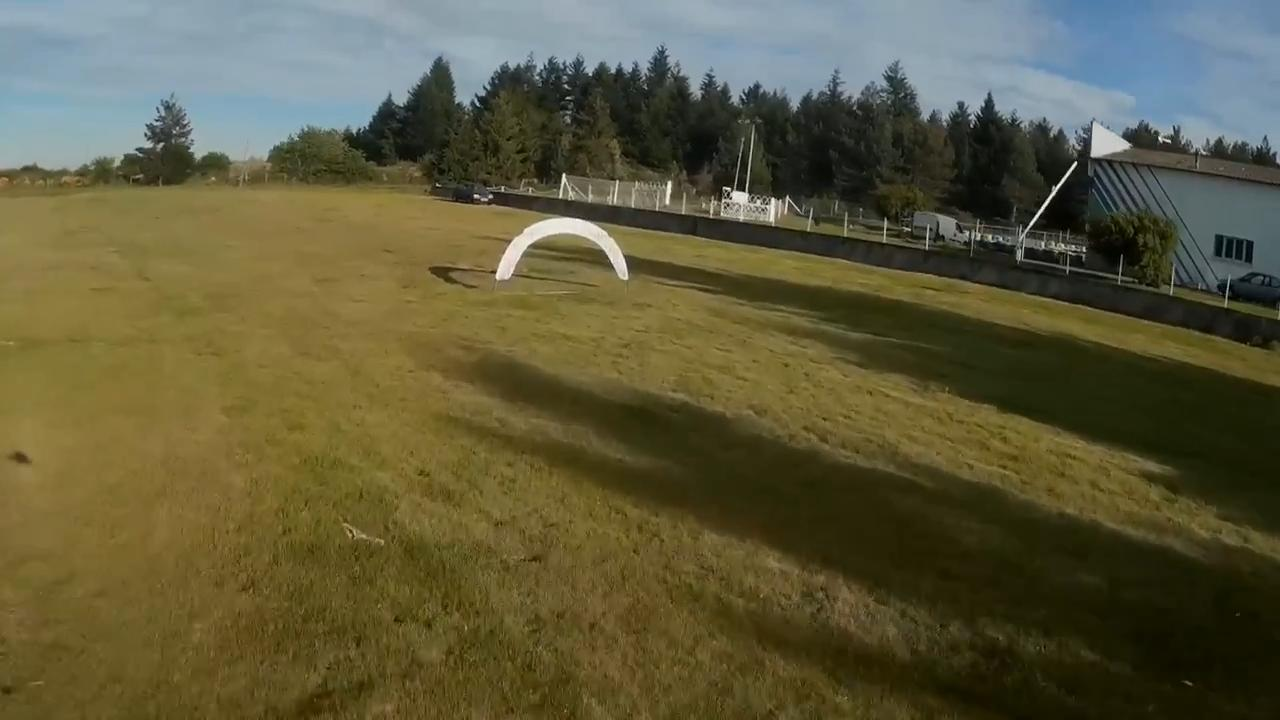gate: (494, 215, 629, 281)
